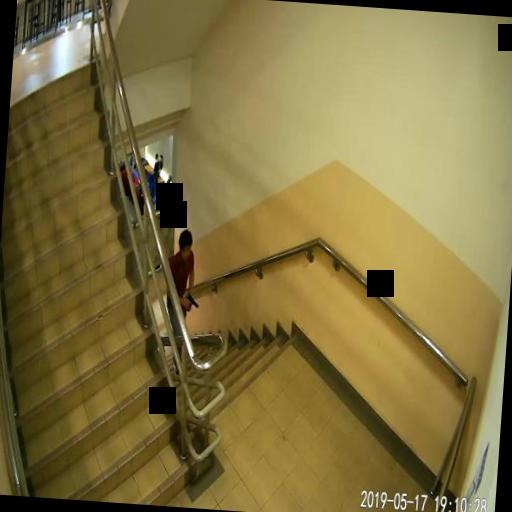Handgun: (184, 292, 198, 310)
